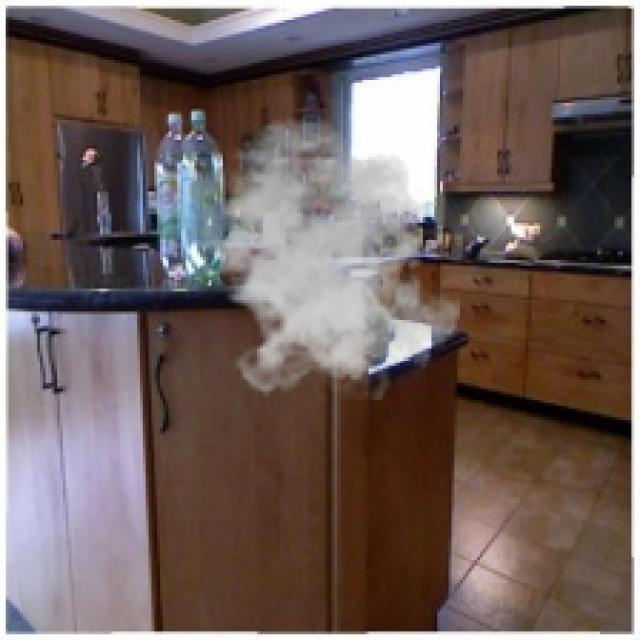Smoke: (188, 117, 461, 400)
